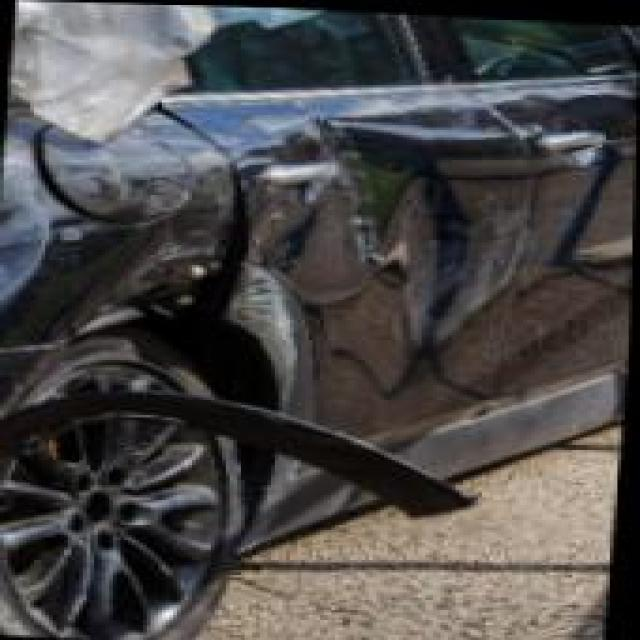Door: (196, 5, 532, 498)
Fender: (0, 95, 167, 364)
